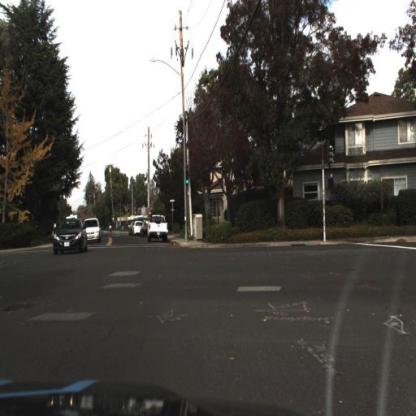car: (51, 218, 92, 260), (146, 210, 173, 245), (86, 216, 103, 244)
trafficLight-Green: (180, 164, 192, 196)
truck: (59, 211, 74, 237)
